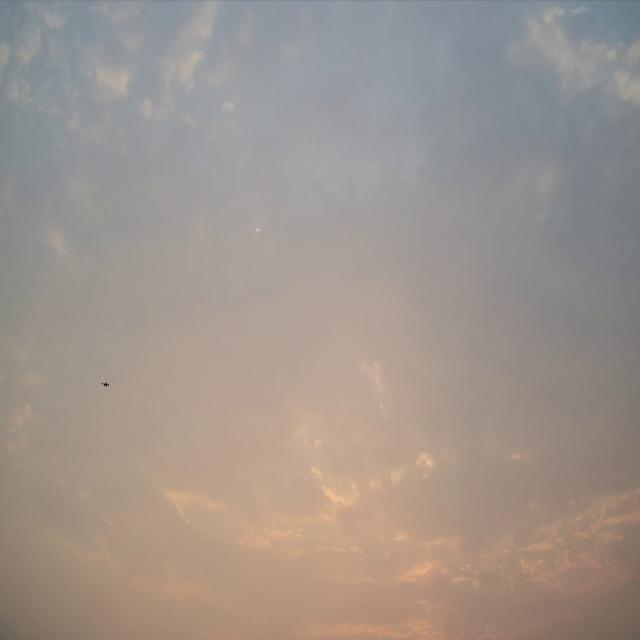UAV: (101, 380, 110, 388)
